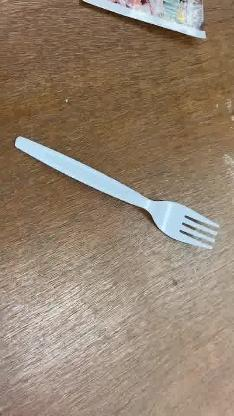Others: (14, 134, 223, 254)
